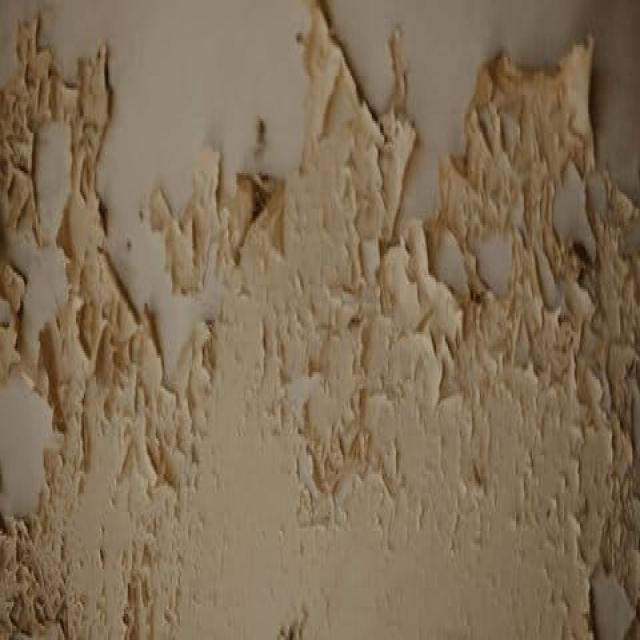paint-peeling: (1, 8, 639, 634)
